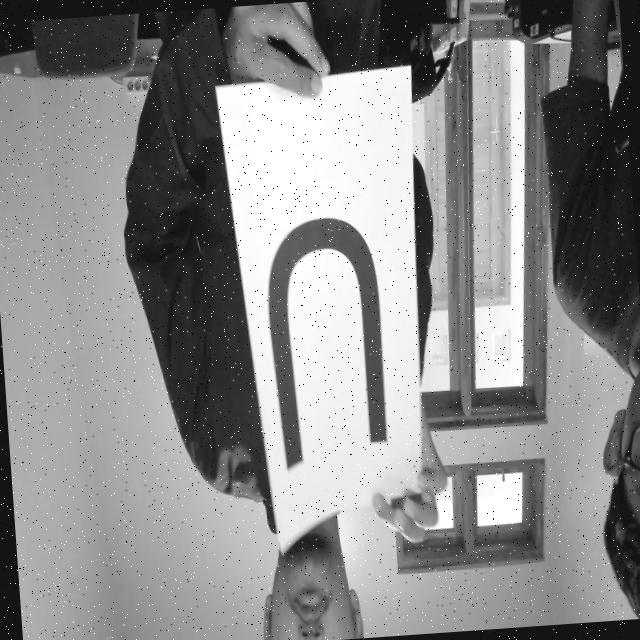u: (254, 198, 394, 476)
